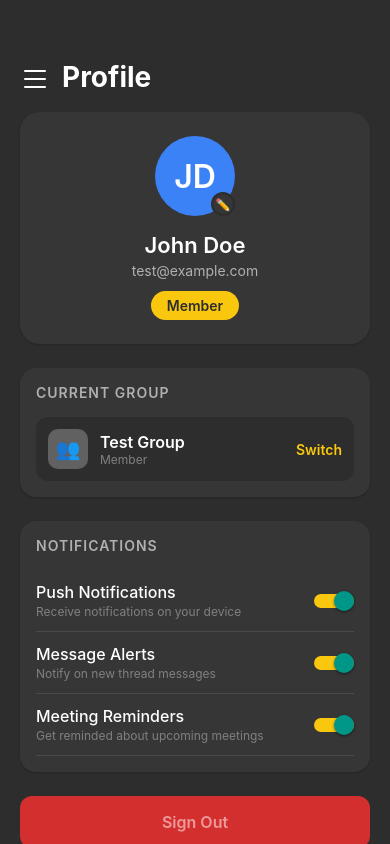
ProfileScreen › should display multiple groups in picker
The image size is (390, 844).
Note: Open modal
Click the text "Switch". click: (319, 449)
box: [296,440,342,458]
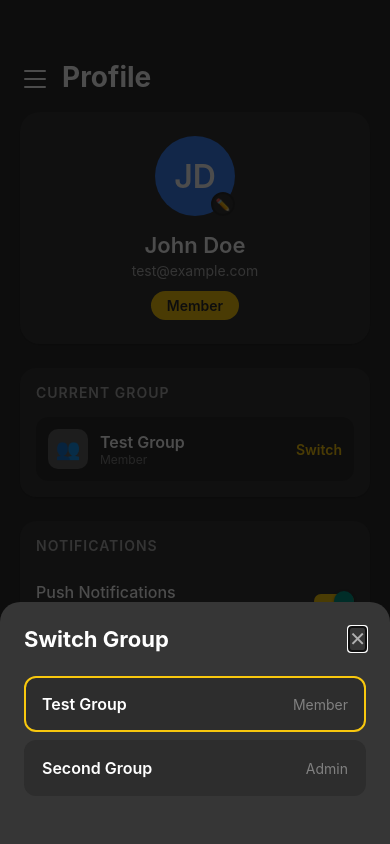
Expected: the text "Test Group" below "Current Group" is shown, [100,432,185,452]
Now the text "Second Group" is shown, box [42,758,152,778]
